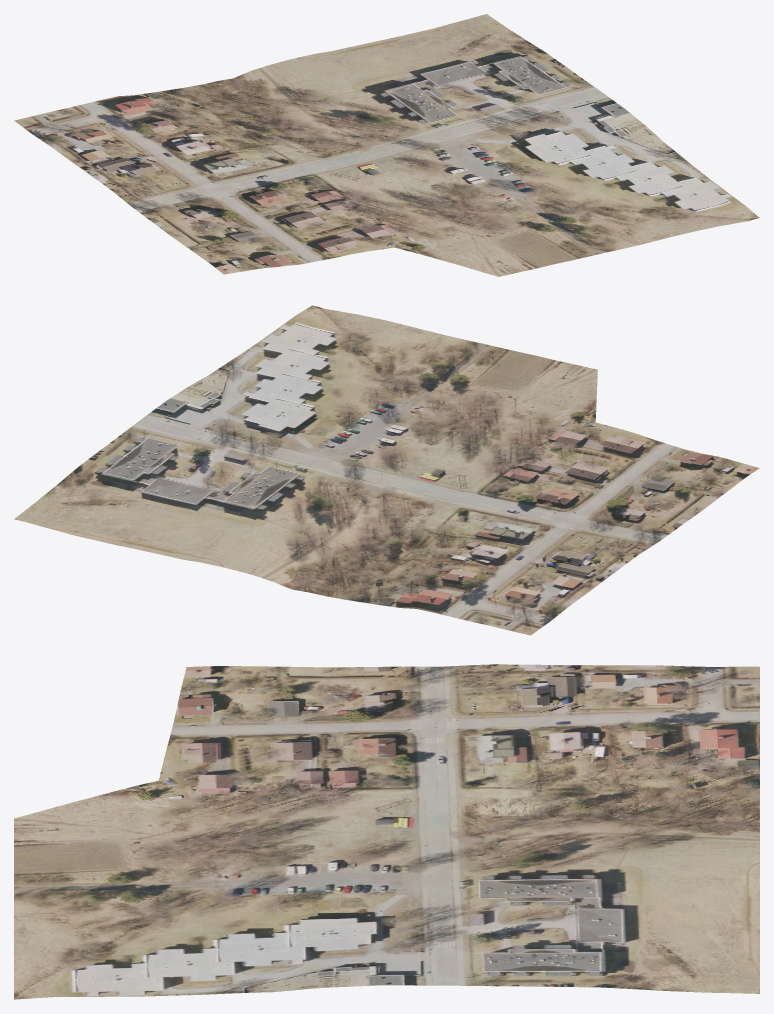
The model's file is CM_Terrain_24489434_6818565.fbx.
The picture shows the model from 3 angles, top to bottom: view 1: azimuth 30°, elevation 25°; view 2: azimuth 150°, elevation 25°; view 3: azimuth 270°, elevation 25°; orthographic projection. The views are drawn at different scales.
Visible parts, largest first — view 1: CM_Terrain_24489434_6818565_LOD0; view 2: CM_Terrain_24489434_6818565_LOD0; view 3: CM_Terrain_24489434_6818565_LOD0.
Boxes of the visible parts, x1=… form: CM_Terrain_24489434_6818565_LOD0: x1=14, y1=14, x2=759, y2=276; CM_Terrain_24489434_6818565_LOD0: x1=14, y1=305, x2=759, y2=635; CM_Terrain_24489434_6818565_LOD0: x1=14, y1=664, x2=759, y2=999.
Size of what is drawn, in the model's own units: 205 by 6.2 by 205.
